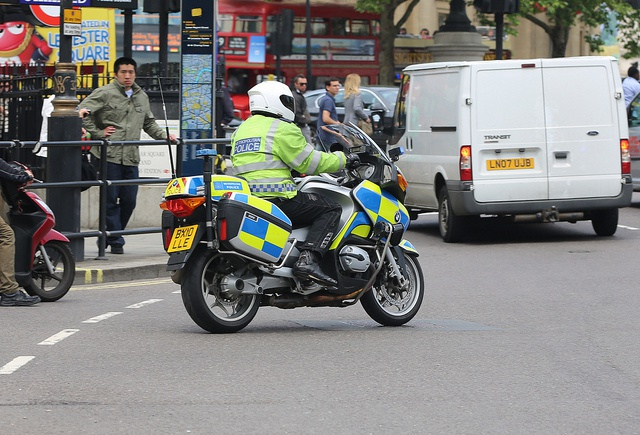non-vehicle: (157, 120, 425, 331), (0, 177, 75, 301)
